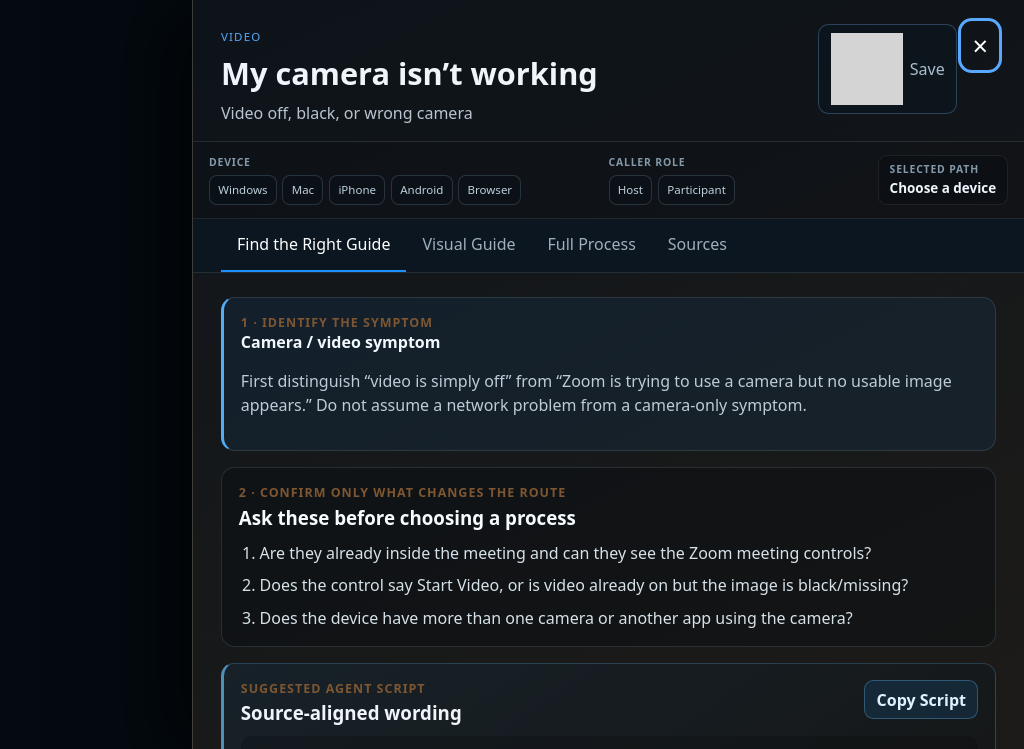
Test: renders the photo/visual before optional links and never shows the fallback for camera-not-working
Click the tab "Visual Guide".
click(469, 245)  # box [406, 219, 532, 272]
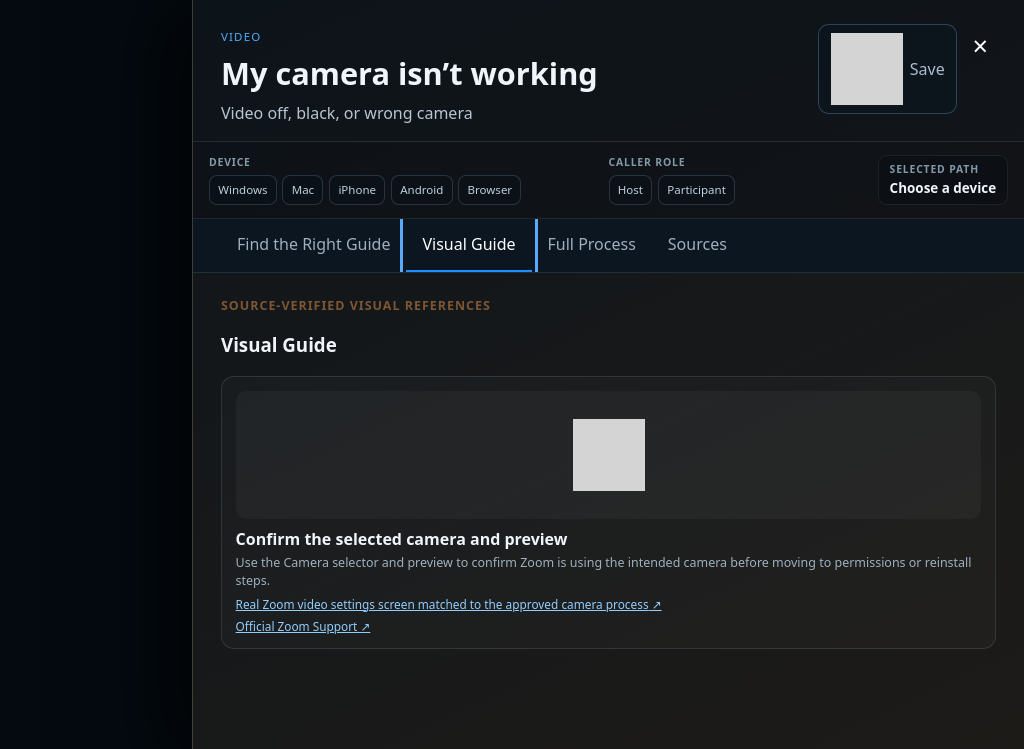
Expected: the 1st link is shown, [236, 596, 662, 612]
